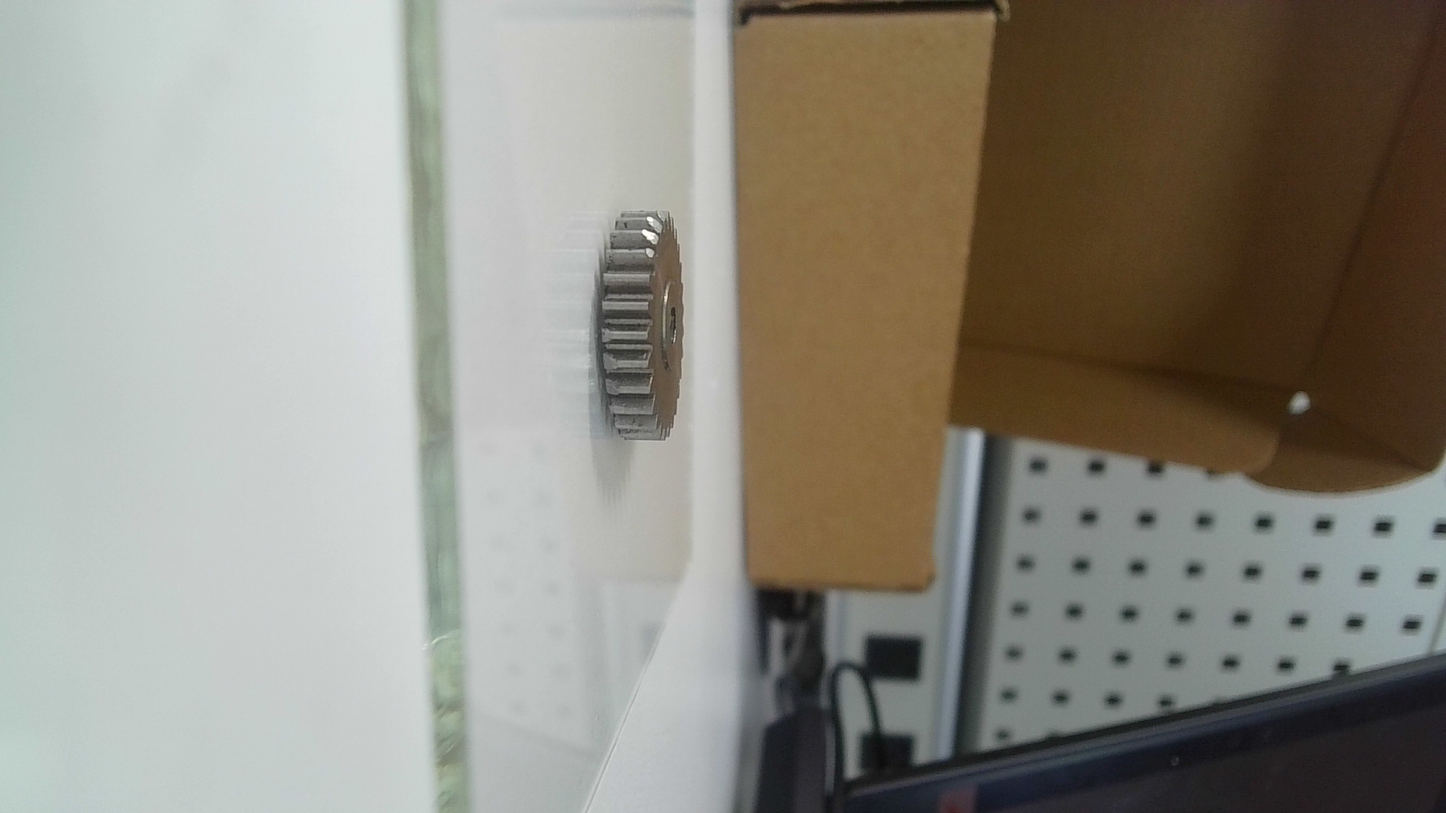gear: (596, 203, 692, 447)
